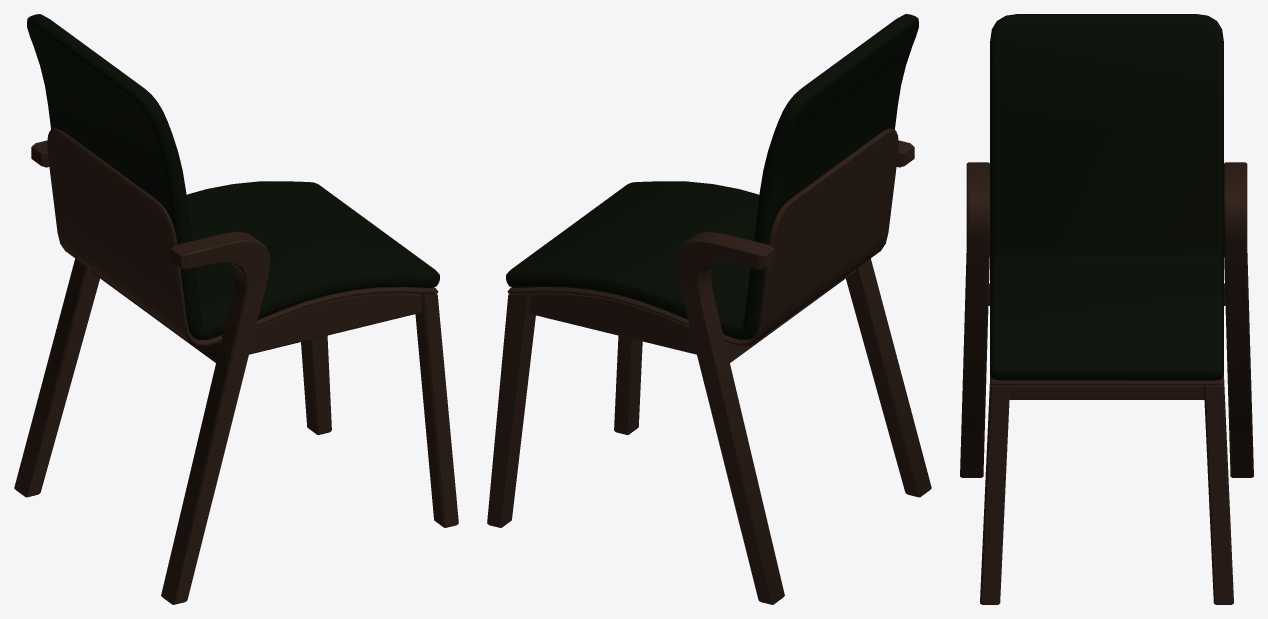
Rendered from h-004_chair_01_F.FBX.
The picture shows the model from 3 angles, left to right: view 1: azimuth 30°, elevation 25°; view 2: azimuth 150°, elevation 25°; view 3: azimuth 270°, elevation 25°; orthographic projection. The views are drawn at different scales.
Visible parts, largest first — view 1: h-004_chair_01; view 2: h-004_chair_01; view 3: h-004_chair_01.
Part boxes in pixels (left/top/right/bottom): h-004_chair_01: left=14, top=14, right=458, bottom=604; h-004_chair_01: left=487, top=14, right=931, bottom=604; h-004_chair_01: left=960, top=14, right=1253, bottom=604.
Size of the model in its own units: 9.8 by 15.06 by 8.8.
